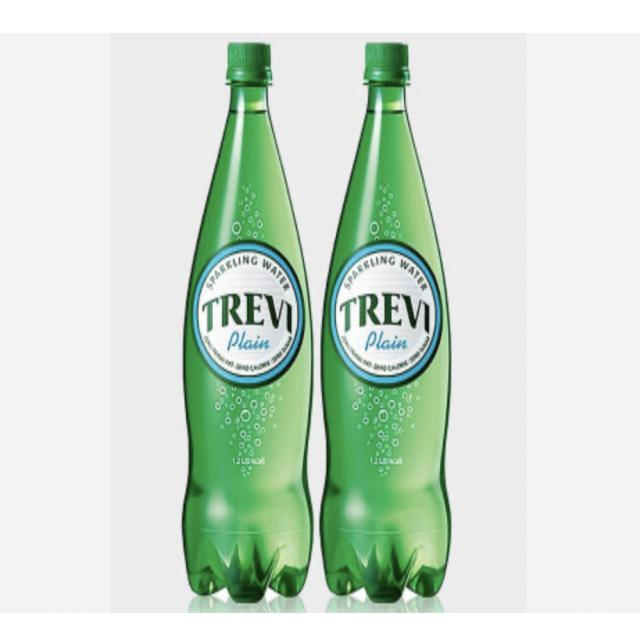recyclable: (305, 38, 466, 610), (173, 33, 321, 609)
